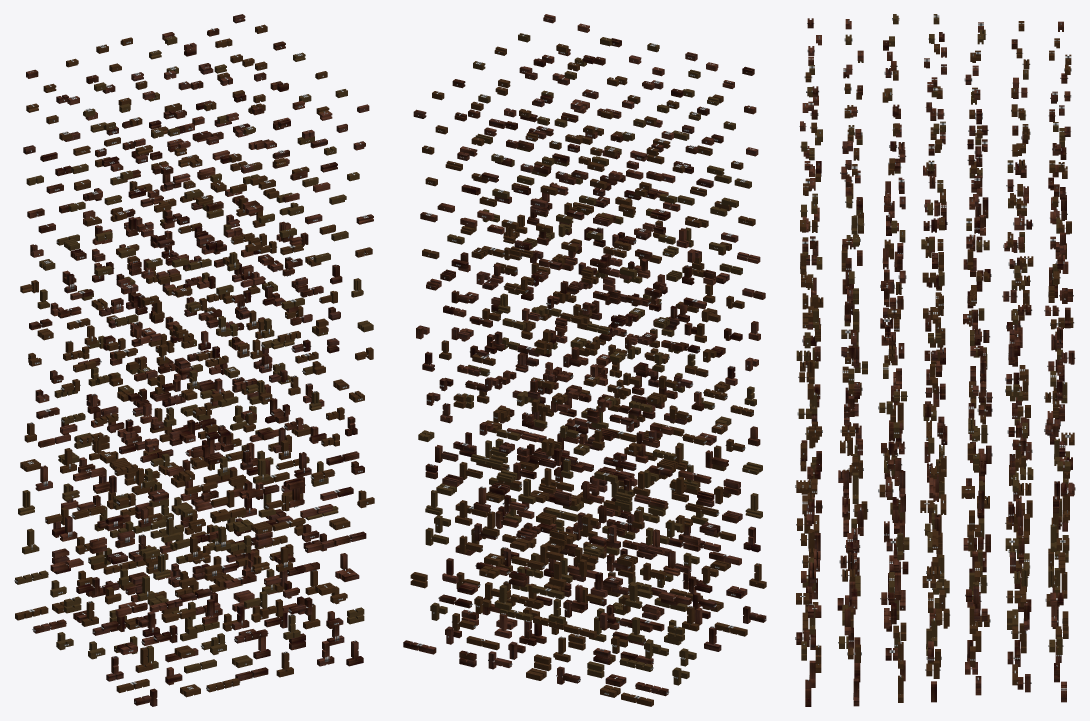
File: wood&steel.glb
The picture shows the model from 3 angles, left to right: view 1: azimuth 30°, elevation 25°; view 2: azimuth 150°, elevation 25°; view 3: azimuth 270°, elevation 25°; orthographic projection. The views are drawn at different scales.
Parts seen in each view (by area): view 1: 나무 1, 나무 3, 나무 2, 쇠; view 2: 나무 1, 나무 3, 나무 2, 쇠; view 3: 나무 1, 나무 3, 나무 2, 쇠.
Boxes of the visible parts, x1,y1,x2,y2 form: 나무 1: (23,14,373,706); 나무 3: (15,24,374,697); 나무 2: (15,36,373,673); 쇠: (14,19,368,702); 나무 1: (403,14,766,696); 나무 3: (410,43,766,706); 나무 2: (418,33,762,685); 쇠: (416,19,765,698); 나무 1: (796,18,1074,706); 나무 3: (796,21,1074,702); 나무 2: (796,14,1070,660); 쇠: (795,15,1075,699).
Size of the model in its own units: 2.33 by 5.3 by 2.17.
Materials: 4 (4 with a texture image).
